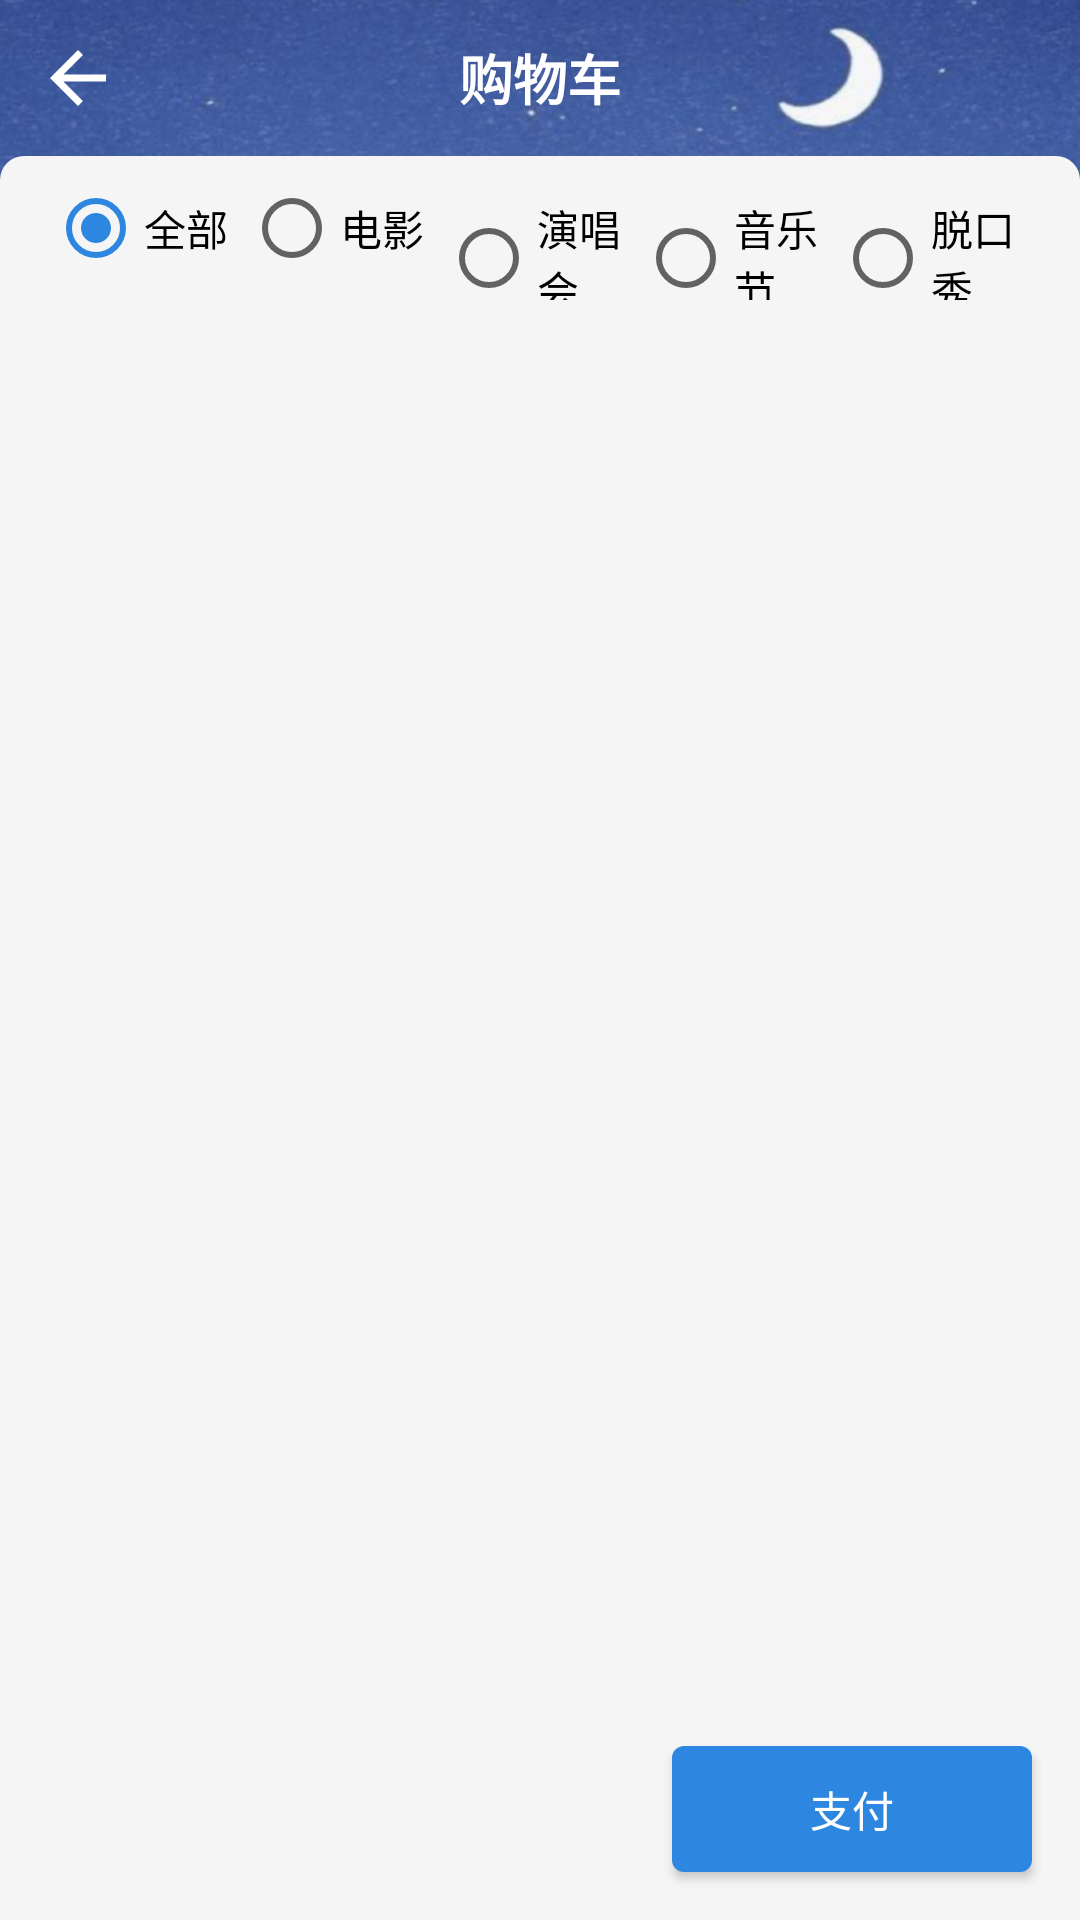

Point at icon controls on the screen. Image size 1080*1920, points as point (x, y).
back: point (78, 78)
